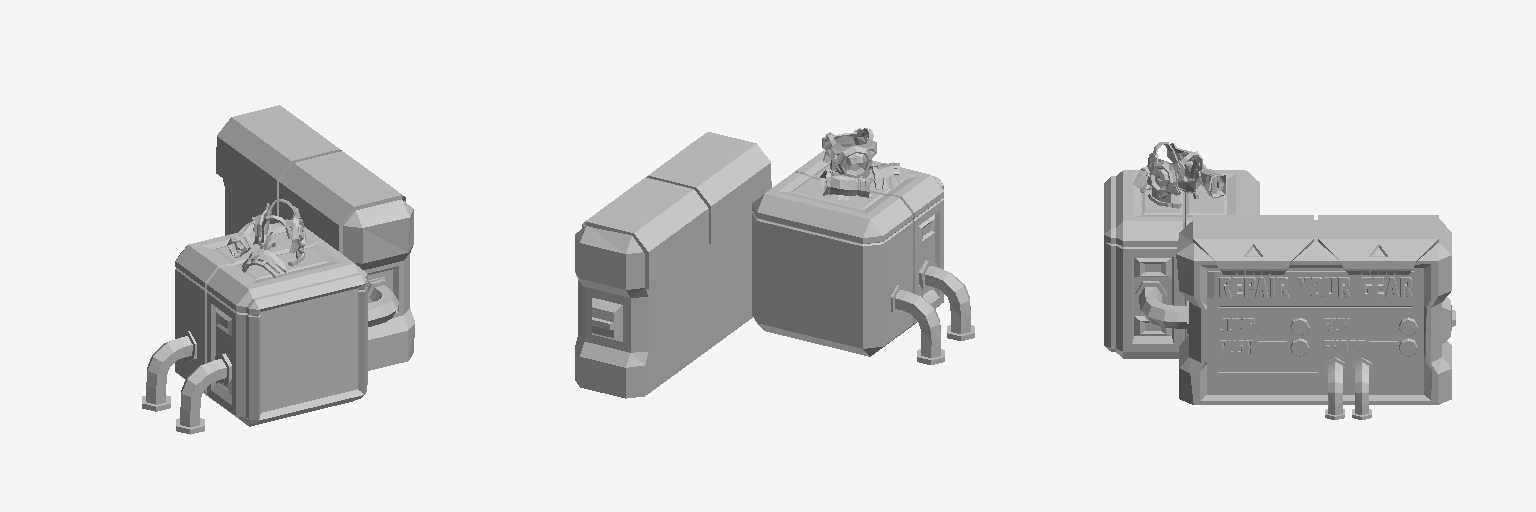
Rendered from menu.obj.
3 renders of one model, left to right at view 1: azimuth 30°, elevation 25°; view 2: azimuth 150°, elevation 25°; view 3: azimuth 270°, elevation 25°, orthographic.
Visible parts, largest first — view 1: Text.003_CUText.046; view 2: Text.003_CUText.046; view 3: Text.003_CUText.046.
Part boxes in pixels (x1,y1,x2,y2): Text.003_CUText.046: (142,105,414,434); Text.003_CUText.046: (575,128,974,398); Text.003_CUText.046: (1104,142,1455,419).
Bounding box in the file's own units: 12.95 × 7.96 × 13.56.